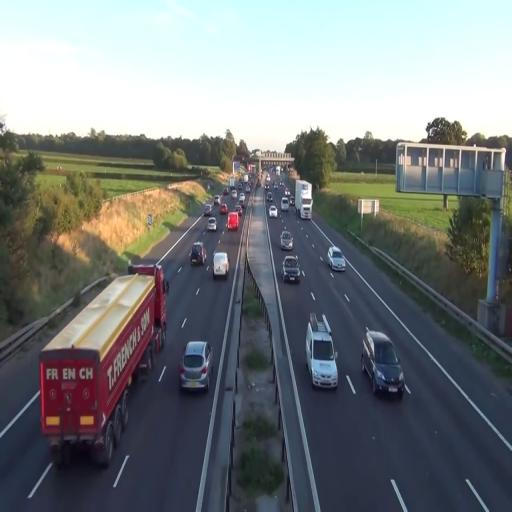vehicle: (38, 264, 166, 468), (38, 265, 166, 467), (362, 328, 404, 400), (305, 313, 339, 390), (178, 340, 212, 391), (295, 180, 312, 219), (296, 180, 312, 218), (282, 254, 302, 284), (212, 250, 230, 279), (328, 246, 346, 273), (189, 242, 206, 266), (280, 229, 294, 250), (205, 212, 218, 232), (268, 202, 278, 218)
